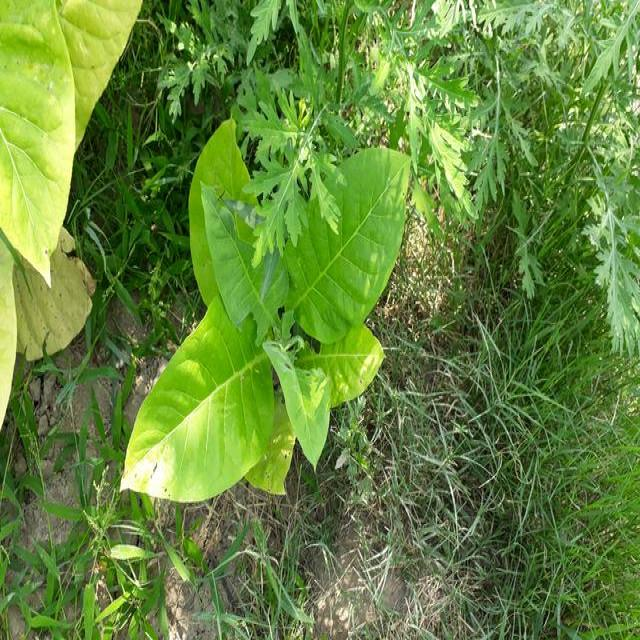crop: (151, 131, 404, 509), (1, 1, 138, 406)
